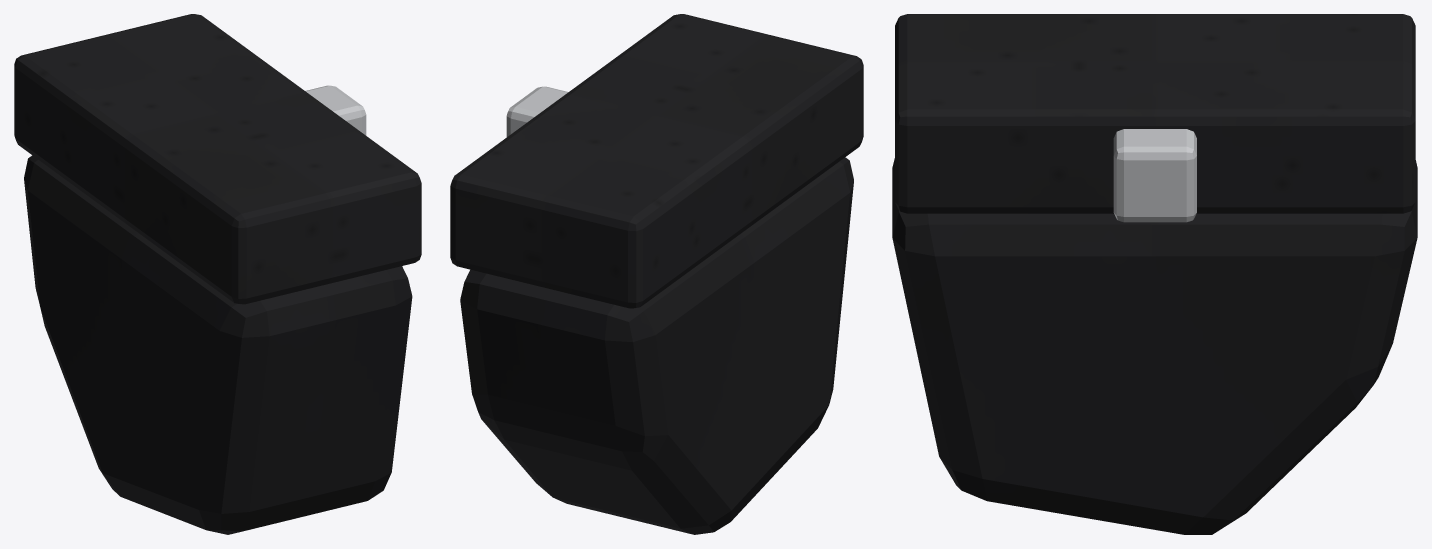
The model's file is grip_half.glb.
3 renders of one model, left to right at view 1: azimuth 30°, elevation 25°; view 2: azimuth 150°, elevation 25°; view 3: azimuth 270°, elevation 25°, orthographic. The views are drawn at different scales.
Parts seen in each view (by area): view 1: stub, g_clamp, g_screw; view 2: stub, g_clamp, g_screw; view 3: stub, g_clamp, g_screw.
Part boxes in pixels (x1,y1,x2,y2): stub: (24,155,412,534); g_clamp: (14,14,421,304); g_screw: (305,85,366,135); stub: (460,157,853,534); g_clamp: (450,14,863,308); g_screw: (506,86,568,136); stub: (892,158,1417,534); g_clamp: (895,14,1415,213); g_screw: (1113,129,1196,222).
Bounding box in the file's own units: 0.029 × 0.0462 × 0.0504.
3 materials, 2 textured.
